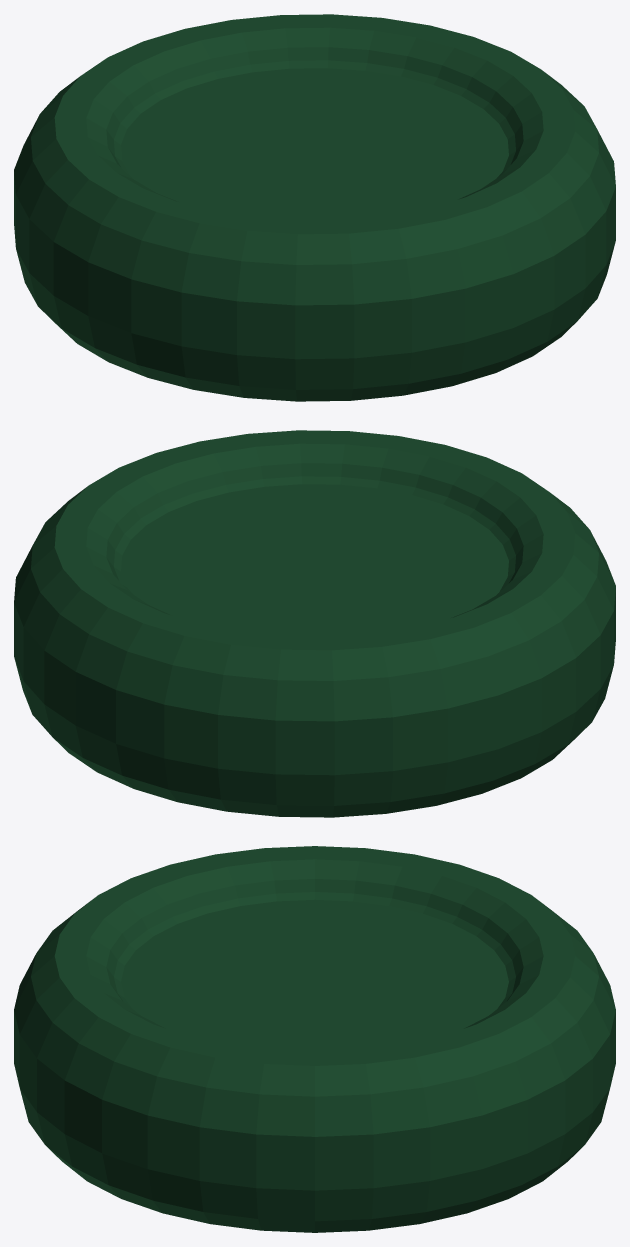
File: Green.fbx
3 views of the same model, one above another, from view 1: azimuth 30°, elevation 25°; view 2: azimuth 150°, elevation 25°; view 3: azimuth 270°, elevation 25° (orthographic).
Parts seen in each view (by area): view 1: Cylinder.002; view 2: Cylinder.002; view 3: Cylinder.002.
Boxes of the visible parts, x1=… form: Cylinder.002: x1=14, y1=14, x2=615, y2=401; Cylinder.002: x1=14, y1=430, x2=615, y2=817; Cylinder.002: x1=14, y1=846, x2=615, y2=1232.
Bounding box in the file's own units: 169 × 50 × 169.
